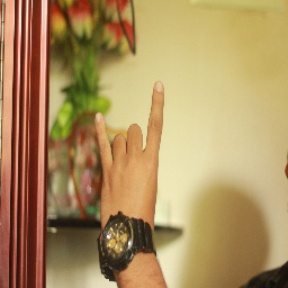V: (90, 78, 173, 227)
